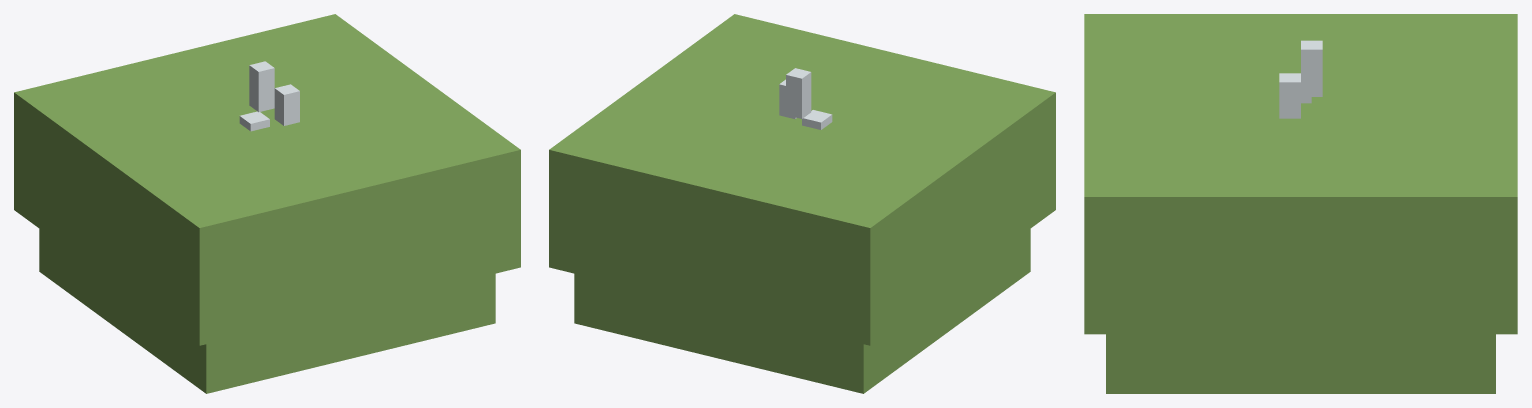
File: product_relish_jar.glb
3 views of the same model, side by side, from view 1: azimuth 30°, elevation 25°; view 2: azimuth 150°, elevation 25°; view 3: azimuth 270°, elevation 25° (orthographic). The views are drawn at different scales.
Parts seen in each view (by area): view 1: ProductArt_body, ProductArt_steam; view 2: ProductArt_body, ProductArt_steam; view 3: ProductArt_body, ProductArt_steam.
Part boxes in pixels (x1,y1,x2,y2): ProductArt_body: (14,14,520,393); ProductArt_steam: (239,61,299,131); ProductArt_body: (549,14,1055,393); ProductArt_steam: (779,68,832,129); ProductArt_body: (1084,14,1517,393); ProductArt_steam: (1279,40,1322,118).
Bounding box in the file's own units: 0.24 × 0.1626 × 0.24.
